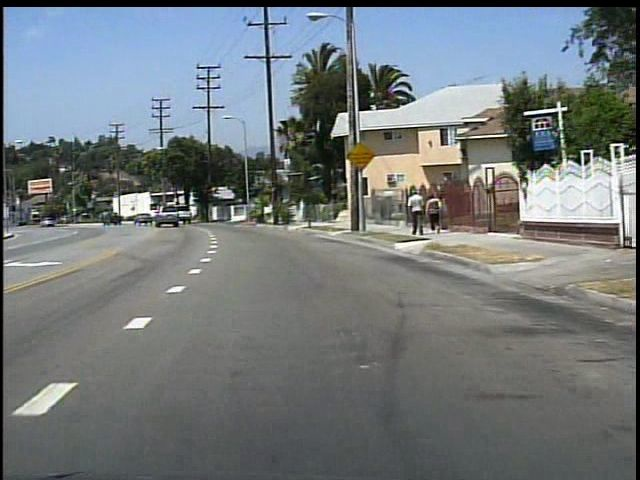person: (405, 185, 426, 239), (423, 191, 445, 234)
